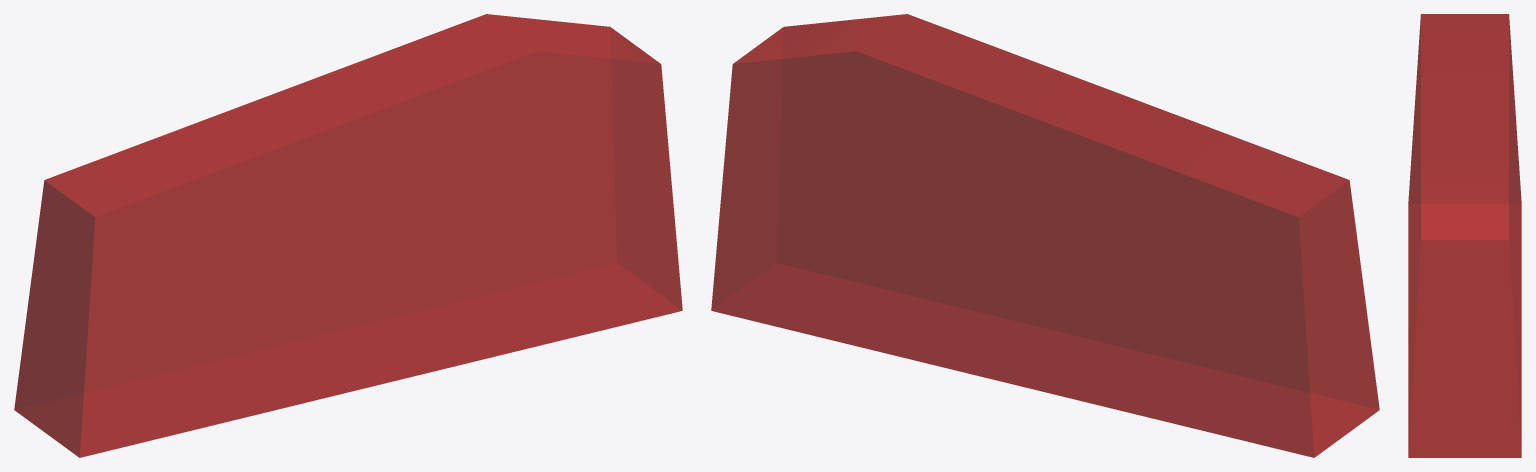
Rendered from SM_Prop_Stonewall_Small_01_Collision.fbx.
The picture shows the model from 3 angles, left to right: view 1: azimuth 30°, elevation 25°; view 2: azimuth 150°, elevation 25°; view 3: azimuth 270°, elevation 25°; orthographic projection. The views are drawn at different scales.
Parts seen in each view (by area): view 1: SM_Prop_Stonewall_Small_01_Collision; view 2: SM_Prop_Stonewall_Small_01_Collision; view 3: SM_Prop_Stonewall_Small_01_Collision.
Part boxes in pixels (left/top/right/bottom): SM_Prop_Stonewall_Small_01_Collision: left=14, top=14, right=682, bottom=457; SM_Prop_Stonewall_Small_01_Collision: left=711, top=14, right=1379, bottom=457; SM_Prop_Stonewall_Small_01_Collision: left=1408, top=14, right=1521, bottom=457.
Size of the model in its own units: 263 by 120 by 49.4.
